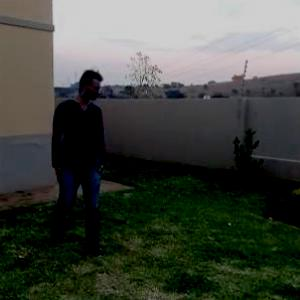follow: (50, 58, 121, 269)
